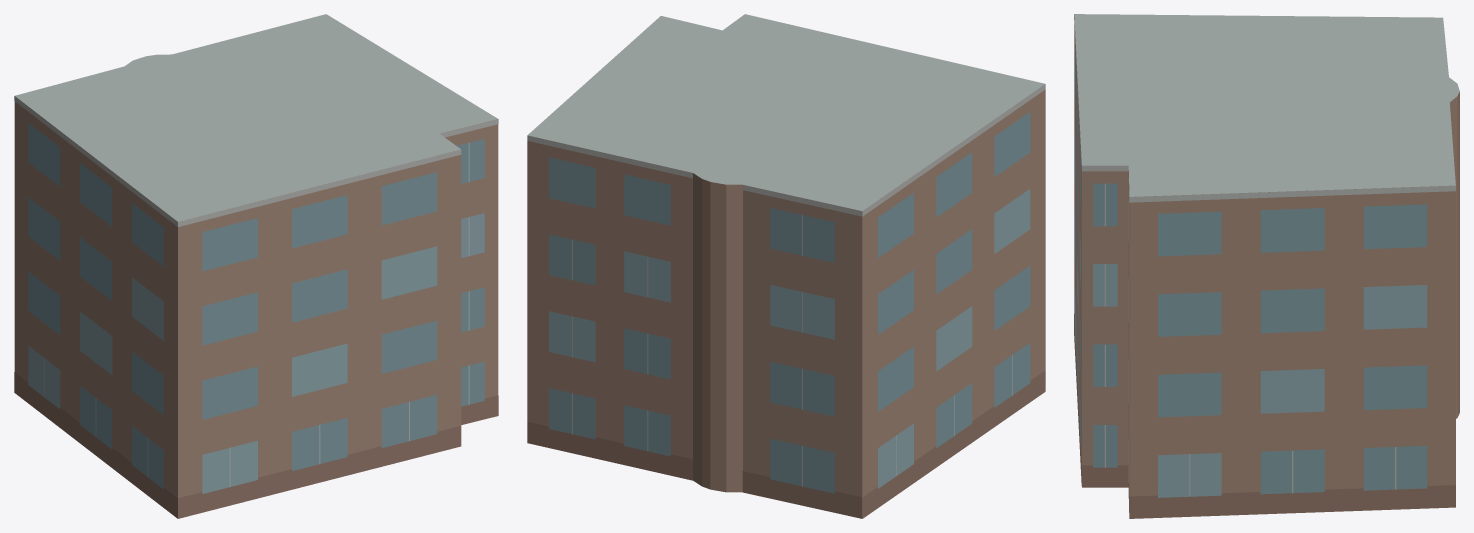
Rendered from survey-upis-32975442.glb.
3 views of the same model, side by side, from view 1: azimuth 30°, elevation 25°; view 2: azimuth 150°, elevation 25°; view 3: azimuth 270°, elevation 25° (orthographic). The views are drawn at different scales.
Visible parts, largest first — view 1: survey-upis-32975442.tmp; view 2: survey-upis-32975442.tmp; view 3: survey-upis-32975442.tmp.
Part boxes in pixels (x1,y1,x2,y2): survey-upis-32975442.tmp: (14,14,498,518); survey-upis-32975442.tmp: (527,14,1045,518); survey-upis-32975442.tmp: (1074,14,1459,518).
Size of the model in its own units: 16.89 by 13.85 by 15.04.
